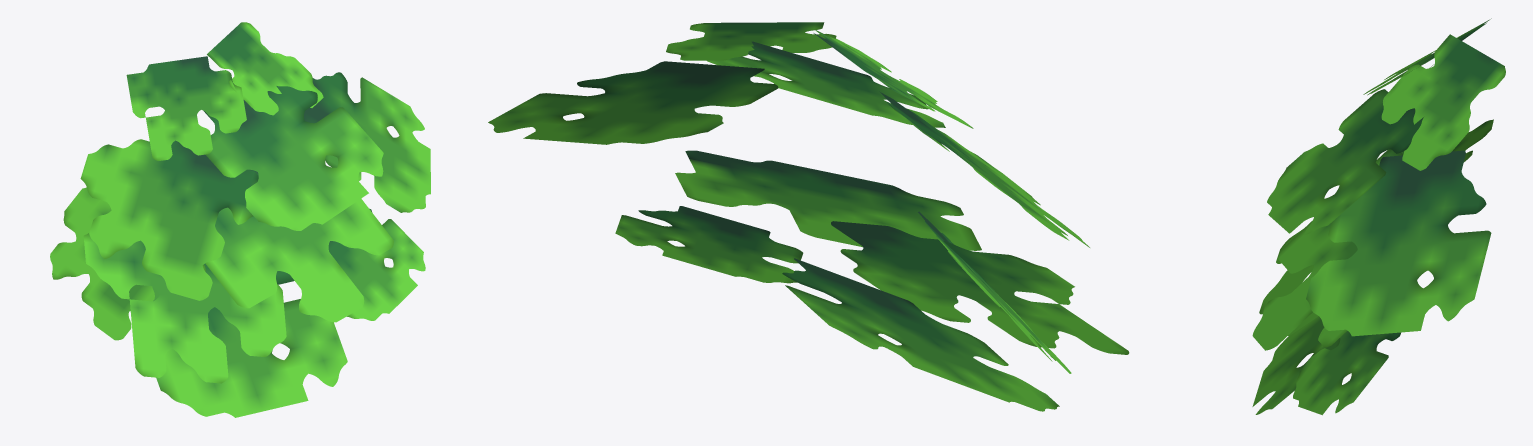
Rendered from Foliage_Wall_Bush_1.fbx.
3 renders of one model, left to right at view 1: azimuth 30°, elevation 25°; view 2: azimuth 150°, elevation 25°; view 3: azimuth 270°, elevation 25°, orthographic. The views are drawn at different scales.
Parts seen in each view (by area): view 1: Plane.001; view 2: Plane.001; view 3: Plane.001.
Part boxes in pixels (x1=…): Plane.001: x1=50, y1=22, x2=430, y2=417; Plane.001: x1=488, y1=22, x2=1129, y2=411; Plane.001: x1=1252, y1=18, x2=1505, y2=415.
Bounding box in the file's own units: 47.92 × 33.48 × 24.49.
1 material, 1 textured.
